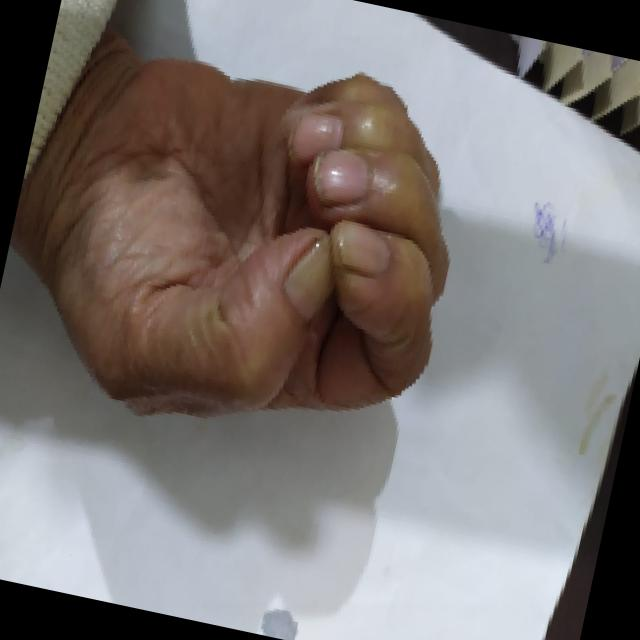Nail: (283, 235, 331, 319), (312, 151, 368, 205), (338, 221, 390, 275), (291, 113, 343, 162)
